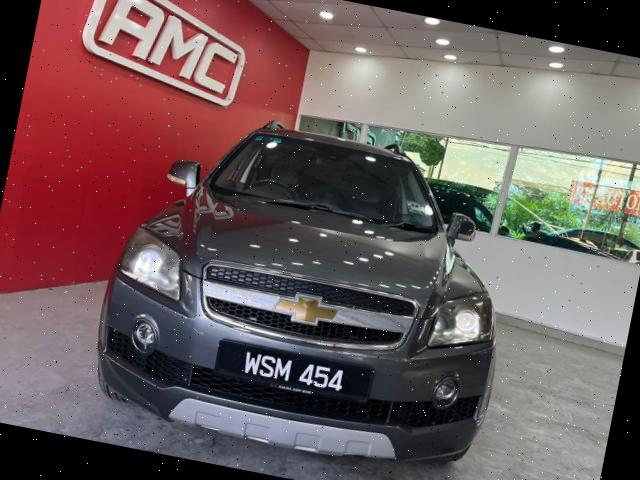License_Plate: (221, 344, 363, 403)
car: (78, 89, 538, 480)
